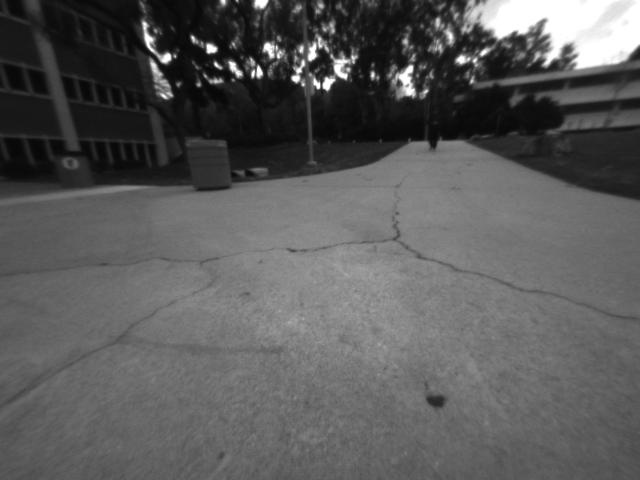trashcan: (181, 133, 236, 193), (52, 145, 96, 192)
